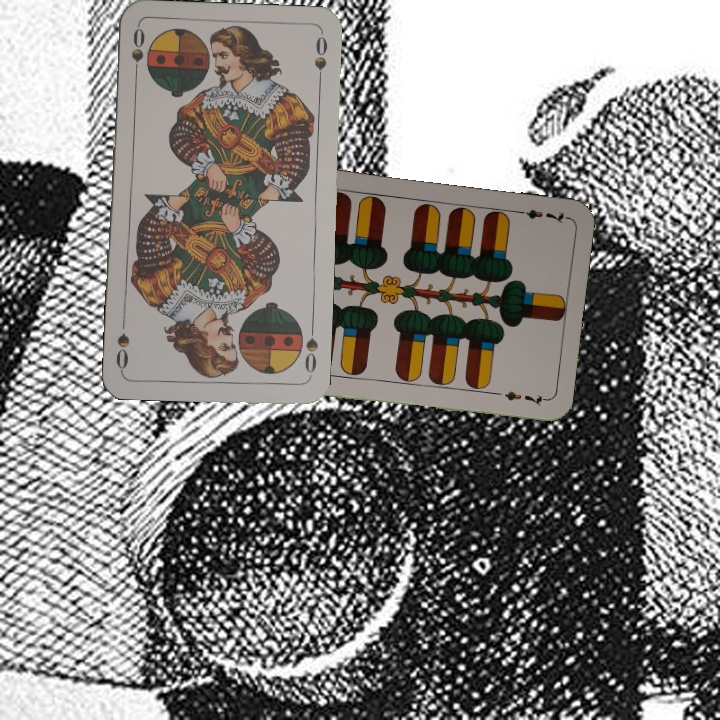E7: (510, 205, 569, 227)
SO: (127, 24, 147, 83), (300, 321, 320, 380)
